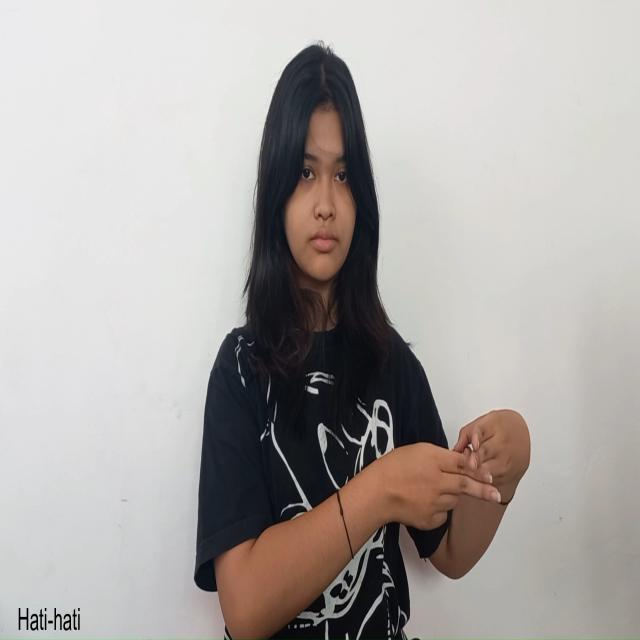Hati-hati -BISINDO-: (376, 408, 532, 534)
